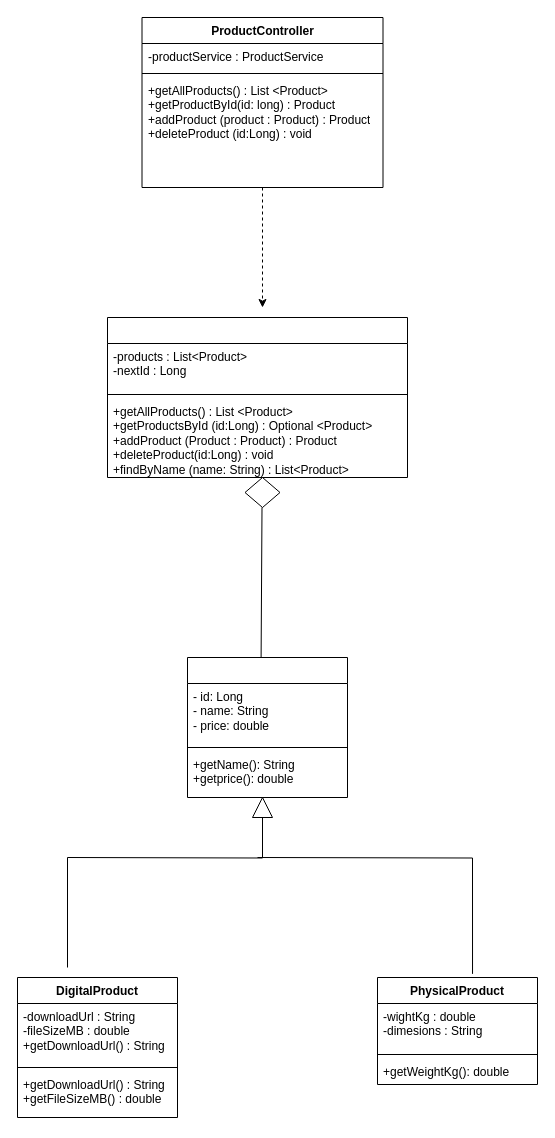
Some shapes in this 555 by 1138 pixel diagram are drawn without their labels. The shapes that lost their labels are listed below. From the top down, each one's box as (x1, y1, x2, y2) in pixels, then its label:
(106, 316, 408, 478): ProductService
(186, 656, 348, 798): Product
